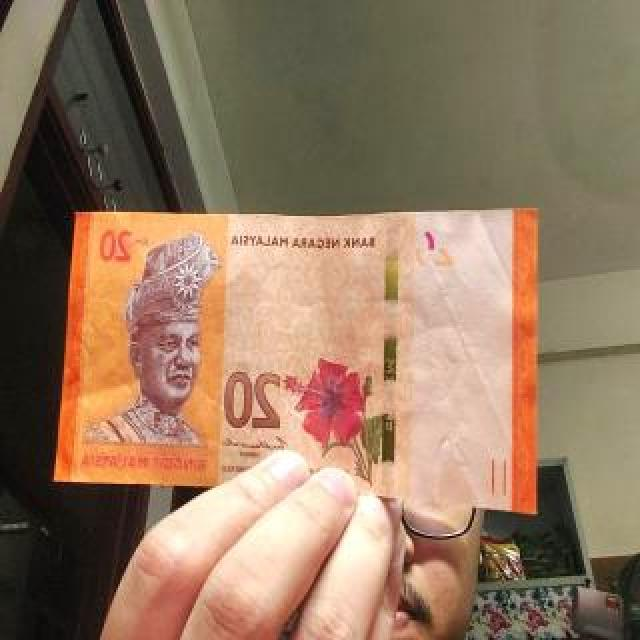20 Ringgit: (48, 214, 539, 504)
